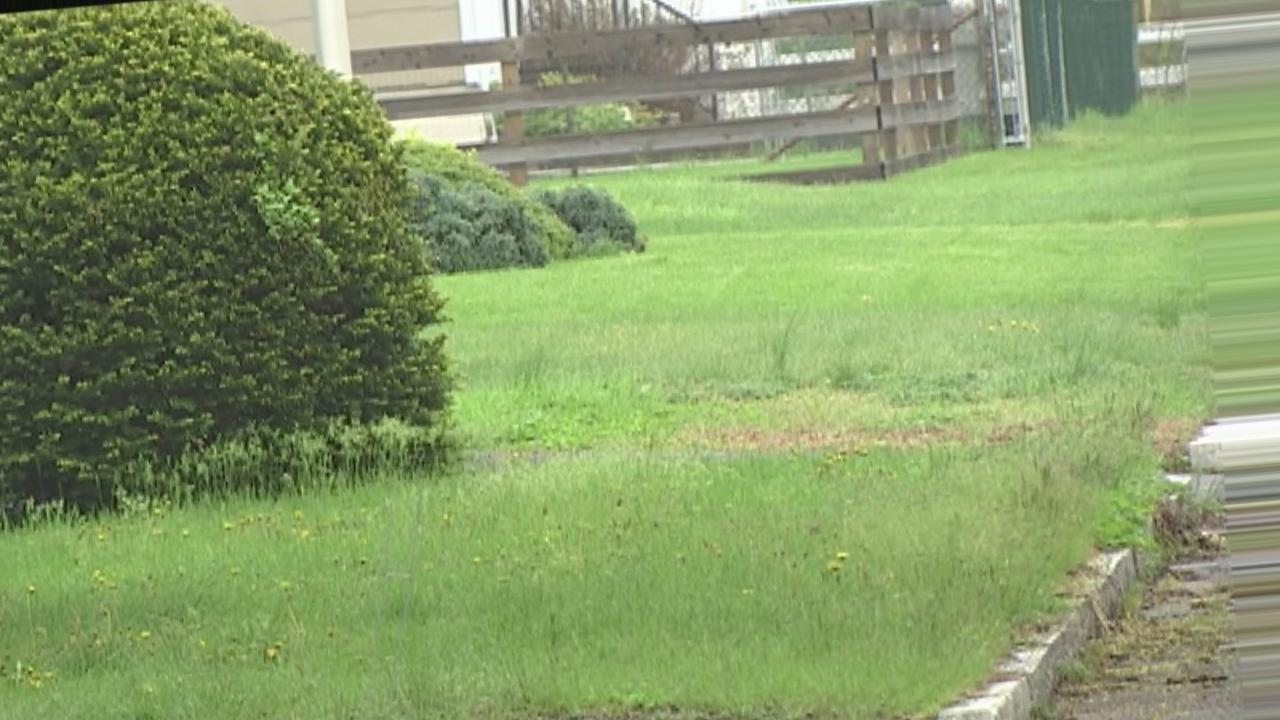patch: (712, 427, 958, 446)
